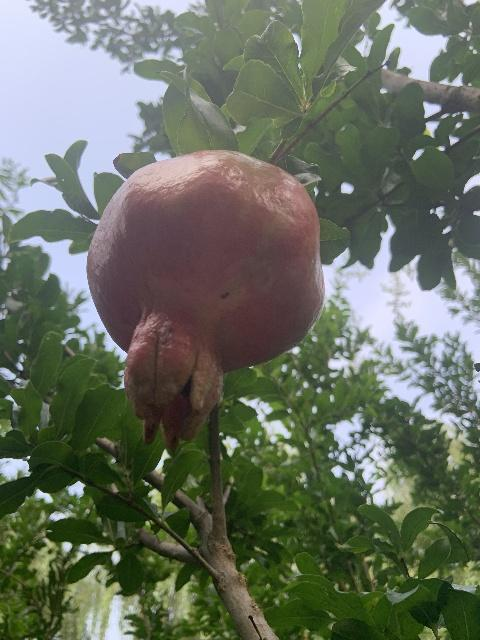ripe: (86, 148, 323, 454)
